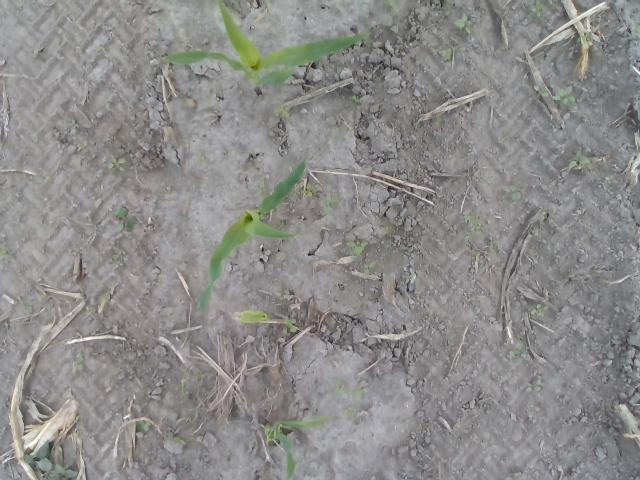Maize: (160, 0, 372, 95), (199, 157, 308, 314), (261, 416, 329, 480), (238, 310, 272, 326)
Weeds: (23, 440, 78, 480), (550, 86, 578, 111), (462, 212, 484, 240), (114, 206, 136, 232), (321, 191, 341, 218), (108, 152, 128, 175), (568, 150, 590, 170), (344, 240, 368, 257), (453, 14, 472, 34), (500, 184, 522, 201), (334, 377, 352, 396), (510, 336, 524, 360), (272, 104, 292, 120), (72, 352, 85, 376), (271, 288, 289, 304), (528, 303, 544, 320), (282, 318, 297, 336), (352, 384, 368, 400), (0, 248, 17, 263), (364, 256, 378, 274), (301, 183, 317, 198), (530, 0, 544, 17), (526, 379, 544, 392), (135, 420, 151, 434), (195, 152, 208, 169), (113, 247, 127, 262), (255, 180, 267, 197), (382, 0, 400, 9), (534, 86, 550, 96), (342, 406, 358, 416), (439, 48, 451, 61), (631, 23, 640, 39), (64, 120, 80, 129), (351, 95, 361, 106), (175, 436, 186, 446), (408, 272, 417, 284), (496, 136, 506, 145), (582, 32, 592, 41), (24, 303, 32, 313), (78, 144, 88, 152), (489, 239, 496, 246), (576, 37, 581, 43)
